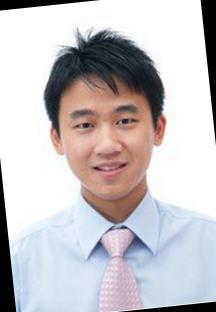Sober: (60, 80, 150, 203)
